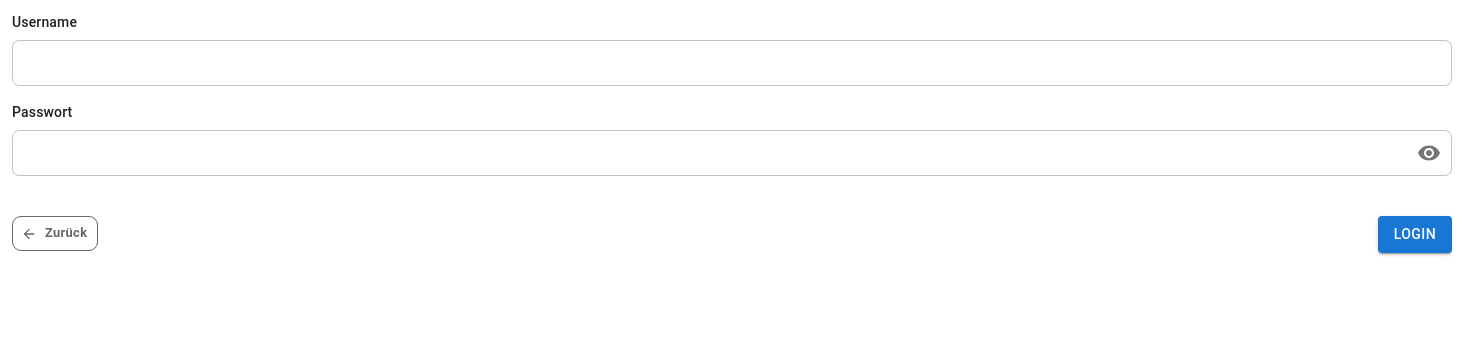
Test: shows error and clears fields on failed login
The width and height of the screenshot is (1464, 337).
Step 1. Type "user" into the field named "username" → (732, 63), box [12,45,1452,81]
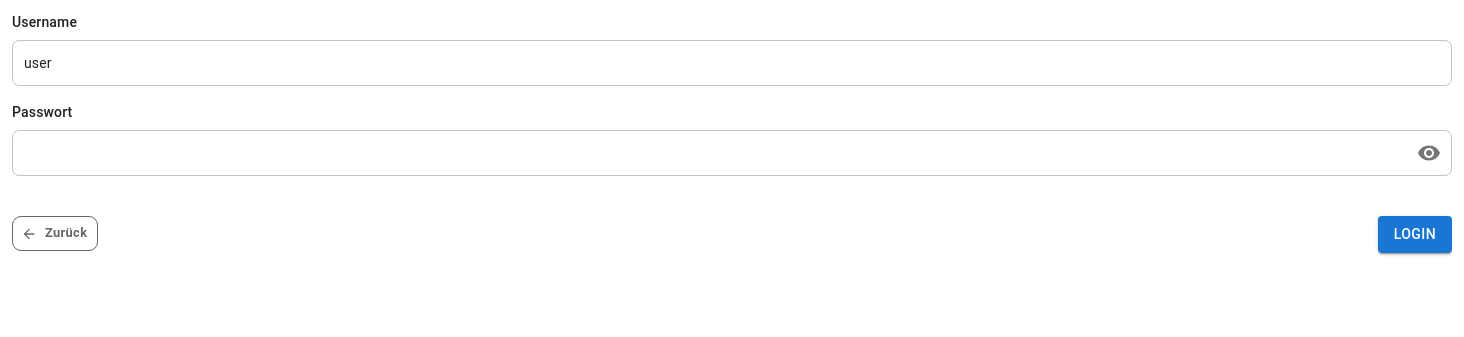
Step 2. Type "wrong" into the password field named "Passwort" → (708, 153), box [12,135,1404,171]
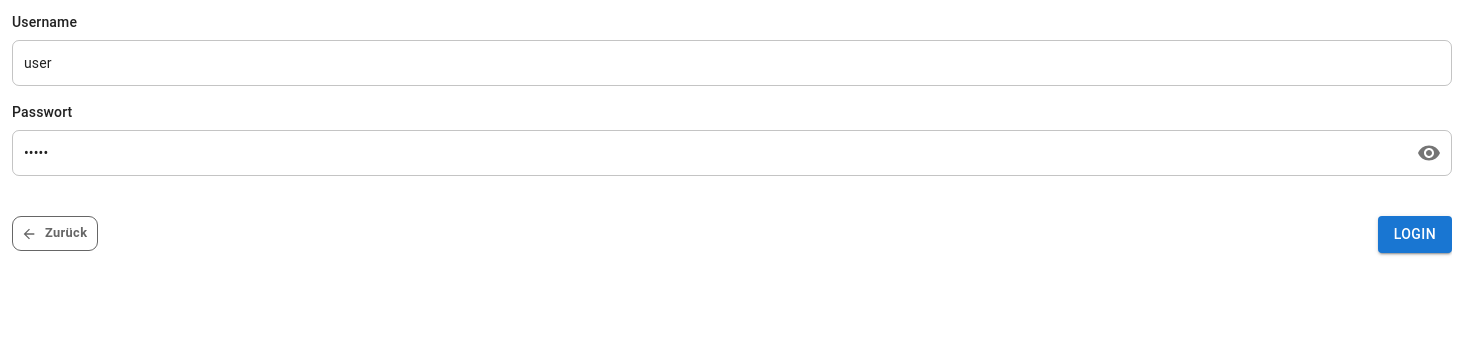
Step 3. Click the button "Login" → (1415, 234), box [1378,216,1452,252]
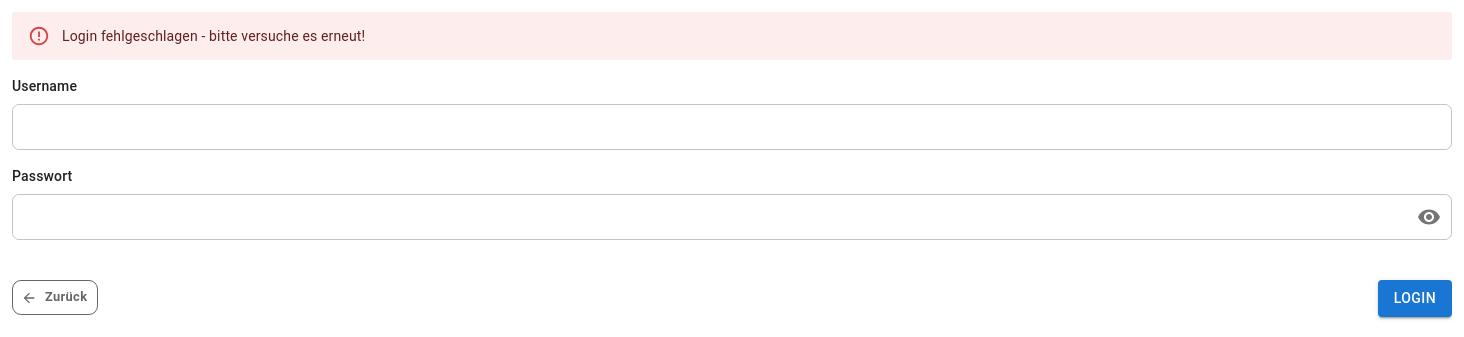
Expected: the text "Login fehlgeschlagen - bitte versuche es erneut!" is shown, [62,28,365,44]
Expected: the field named "username" is empty, [12,109,1452,145]
Expected: the password field named "Passwort" is empty, [12,199,1404,235]
